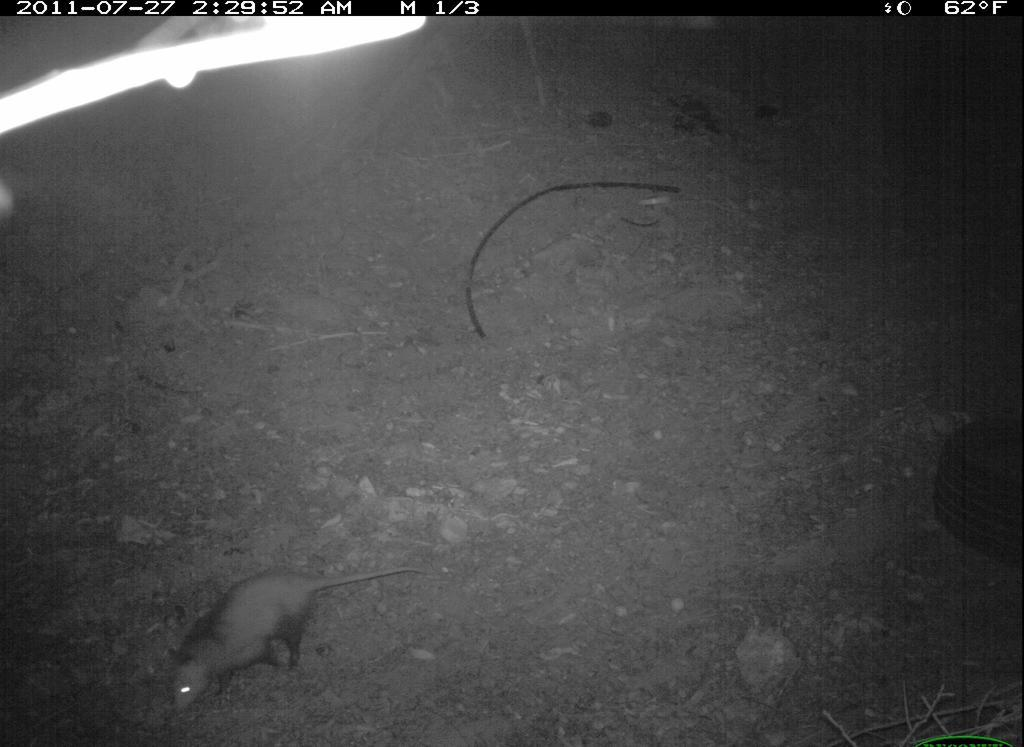opossum: (149, 560, 438, 721)
